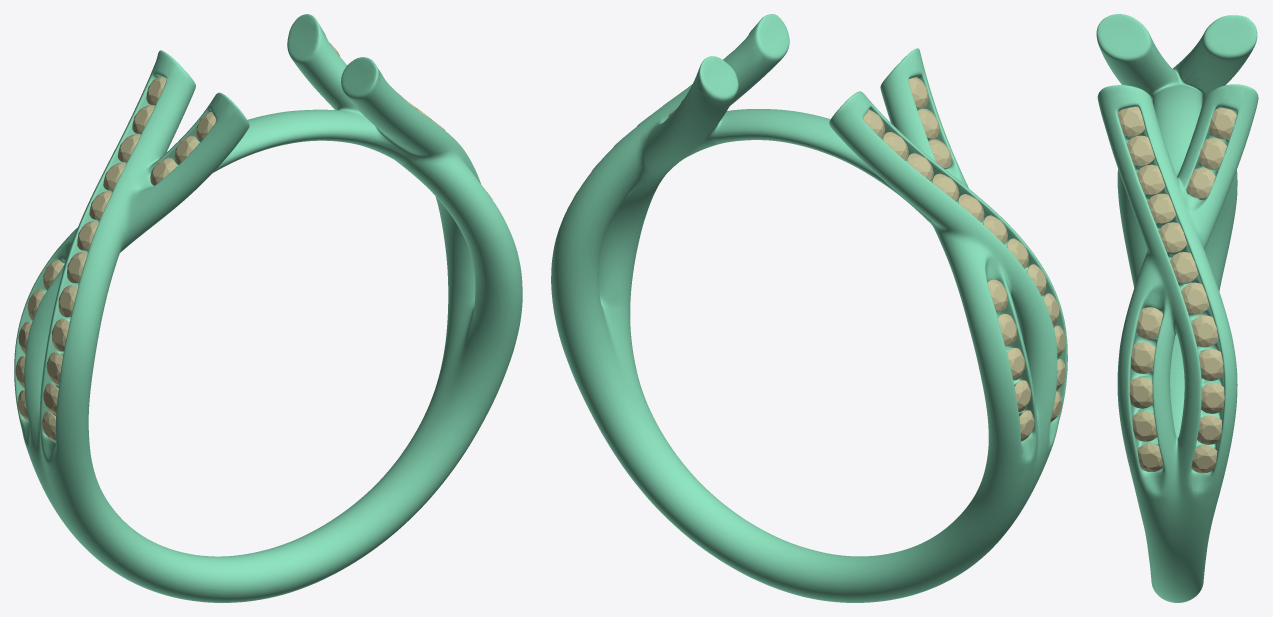
3 views of the same model, side by side, from view 1: azimuth 30°, elevation 25°; view 2: azimuth 150°, elevation 25°; view 3: azimuth 270°, elevation 25° (orthographic). The views are drawn at different scales.
Visible parts, largest first — view 1: Metal02; view 2: Metal02; view 3: Metal02, Diamond_Gem.035, Diamond_Gem.020, Diamond_Gem.034, Diamond_Gem.027, Diamond_Gem.036, Diamond_Gem.021, Diamond_Gem.026, Diamond_Gem.022, Diamond_Gem.025, Diamond_Gem.033, Diamond_Gem.037 (+9 smaller).
Part boxes in pixels (bbox=[...]): Metal02: bbox=[14, 14, 522, 602]; Metal02: bbox=[551, 14, 1067, 602]; Metal02: bbox=[1096, 14, 1258, 602]; Diamond_Gem.035: bbox=[1191, 315, 1218, 347]; Diamond_Gem.020: bbox=[1136, 307, 1163, 338]; Diamond_Gem.034: bbox=[1181, 282, 1209, 314]; Diamond_Gem.027: bbox=[1209, 107, 1236, 139]; Diamond_Gem.036: bbox=[1199, 349, 1223, 380]; Diamond_Gem.021: bbox=[1131, 342, 1155, 373]; Diamond_Gem.026: bbox=[1198, 138, 1226, 169]; Diamond_Gem.022: bbox=[1129, 377, 1152, 408]; Diamond_Gem.025: bbox=[1187, 168, 1215, 198]; Diamond_Gem.033: bbox=[1170, 252, 1198, 282]; Diamond_Gem.037: bbox=[1201, 383, 1224, 413].
Size of the model in its own units: 20.99 by 22.8 by 6.33.
